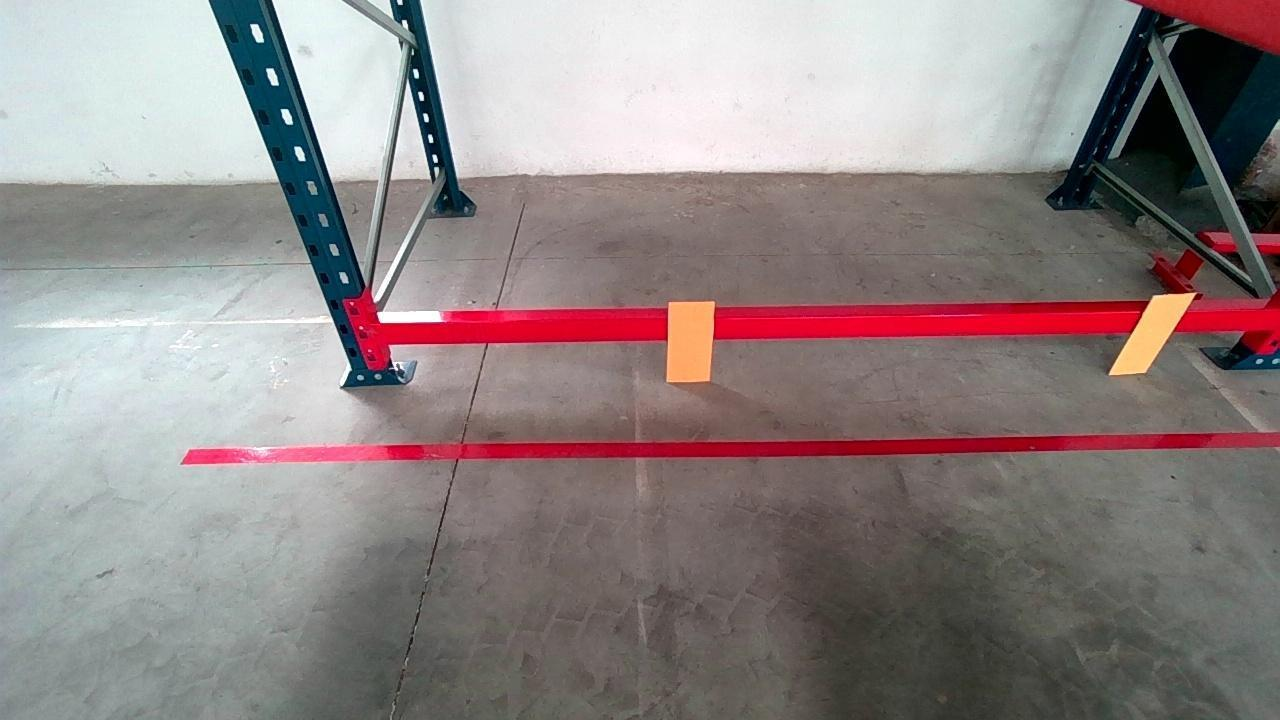h_rack: (379, 314, 1280, 341)
orange_strip: (1110, 294, 1196, 373), (667, 300, 715, 381)
red_line: (183, 431, 1280, 464)
